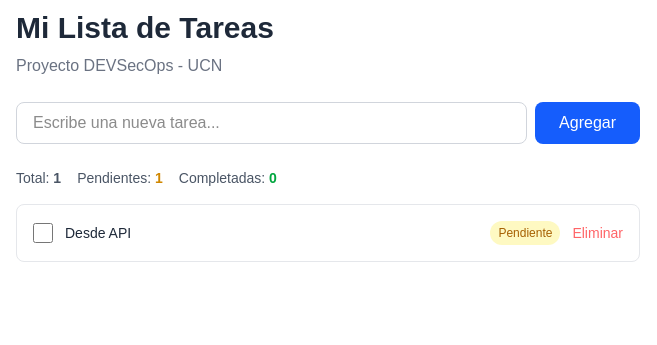
Scenario: TodoApp › agrega una tarea nueva
The image size is (657, 345).
In the field labelled "nueva tarea": point(272, 123) [16,102,527,144], type "Nueva desde UI"
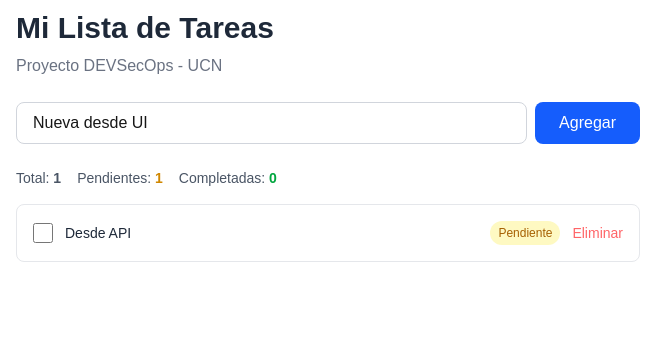
Click the button "Agregar": point(588, 123) [535,102,640,144]
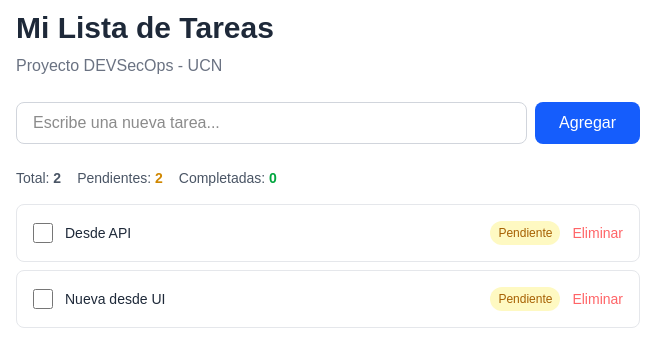
Expected: the text "Nueva desde UI" is shown, [65,291,165,307]
